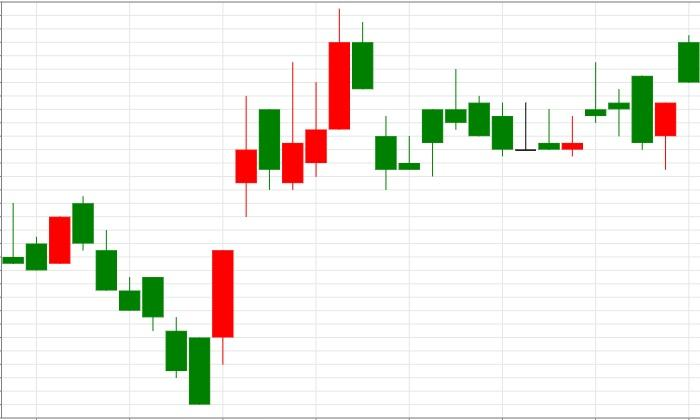three_black_crows_fall: (2, 195, 142, 312)
